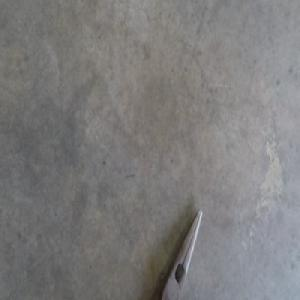Pliers: (159, 208, 202, 298)
